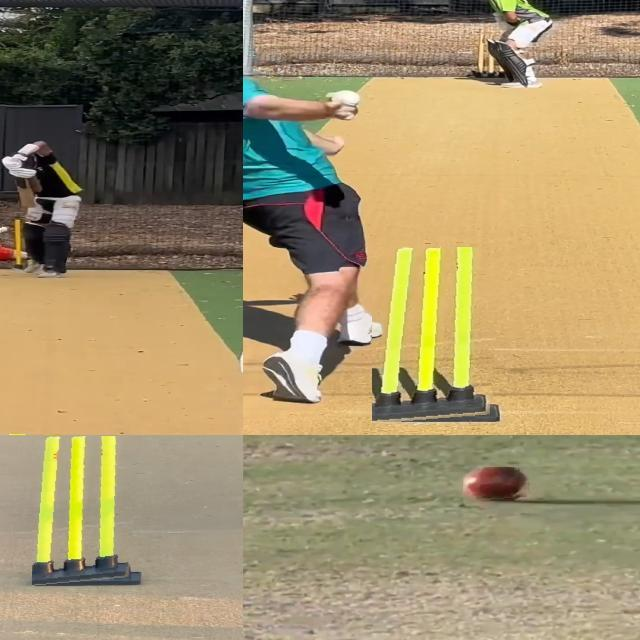Cricket ball: (463, 467, 530, 502), (0, 225, 10, 235)
Stumps: (372, 247, 504, 425), (32, 436, 143, 587)
